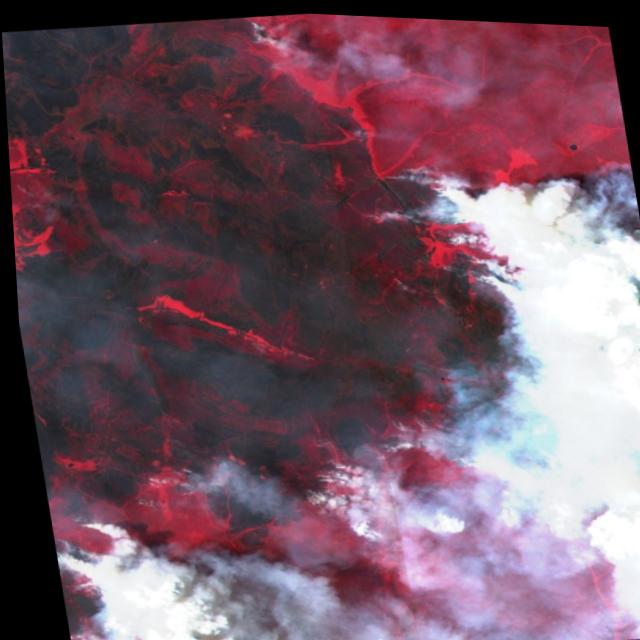fire: (242, 126, 640, 533), (34, 433, 236, 640)
